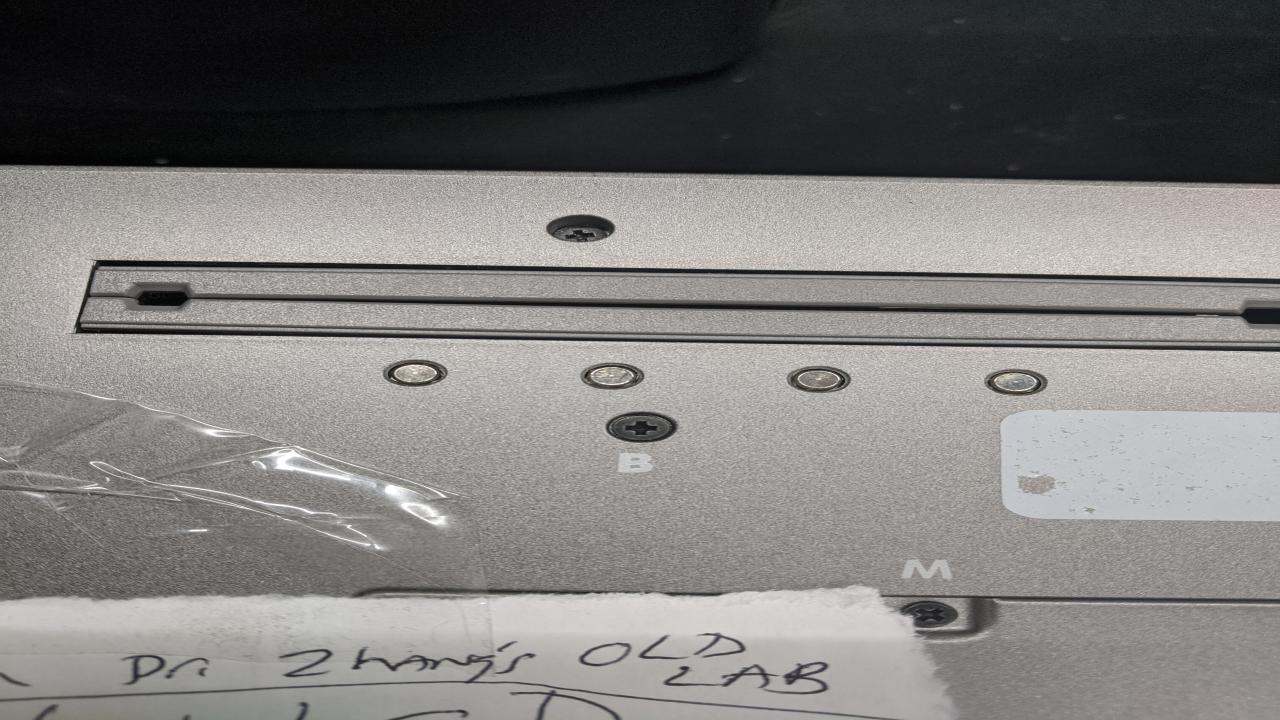CRS: (604, 412, 675, 444), (890, 597, 960, 628), (544, 219, 610, 245)
